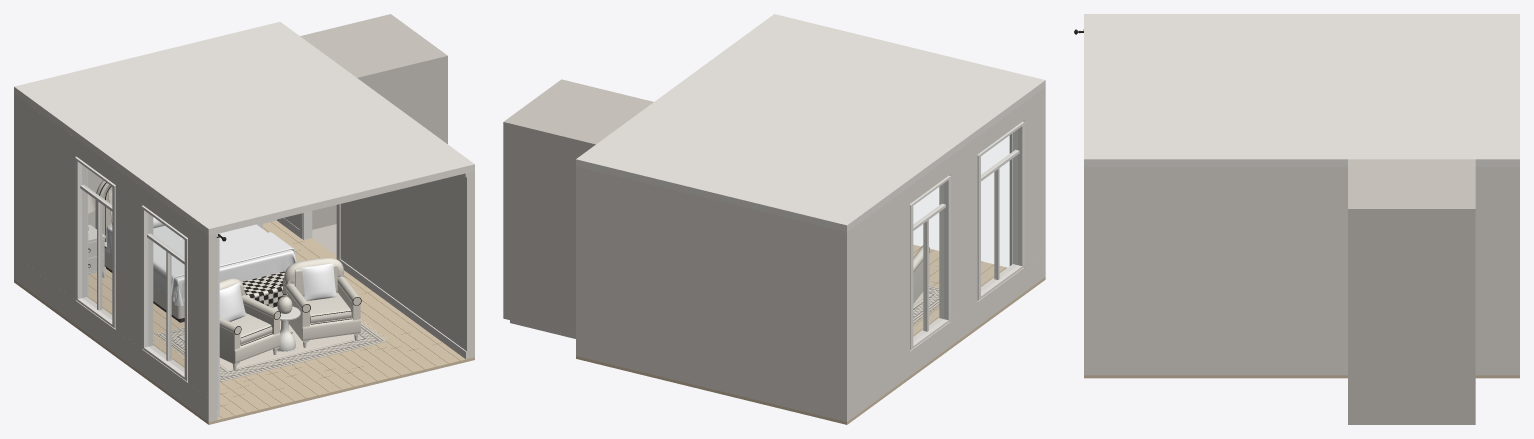
The model's file is bedroom.glb.
3 views of the same model, side by side, from view 1: azimuth 30°, elevation 25°; view 2: azimuth 150°, elevation 25°; view 3: azimuth 270°, elevation 25° (orthographic). The views are drawn at different scales.
Visible parts, largest first — view 1: Ceiling, Wall (×7), Oak floor, Bathroom (beyond) (×5), White trim (×3), Window glass (×2), Armchair R, Rug top, Armchair L, Duvet, Throw, Bed (+8 smaller); view 2: Wall (×6), Ceiling, Bathroom (beyond) (×3), White trim (×2), Window glass (×2), Oak floor, Armchair L; view 3: Ceiling, Wall (×3), Bathroom (beyond) (×2), Oak floor.
Part boxes in pixels (box(x1,y1,x2,y2)): Ceiling: box(14, 22, 474, 235); Wall (×7): box(14, 94, 474, 421); Oak floor: box(14, 220, 474, 424); Bathroom (beyond) (×5): box(300, 14, 447, 255); White trim (×3): box(75, 157, 466, 419); Window glass (×2): box(82, 166, 183, 371); Armchair R: box(283, 257, 361, 347); Rug top: box(157, 320, 385, 381); Armchair L: box(219, 278, 280, 370); Duvet: box(106, 224, 296, 306); Throw: box(153, 232, 296, 295); Bed: box(95, 180, 184, 322); Wall (×6): box(576, 87, 1045, 421); Ceiling: box(576, 14, 1045, 232); Bathroom (beyond) (×3): box(503, 79, 653, 336); White trim (×2): box(910, 121, 1024, 350); Window glass (×2): box(914, 131, 1017, 339); Oak floor: box(576, 244, 1045, 424); Armchair L: box(913, 245, 929, 304); Ceiling: box(1084, 14, 1519, 166); Wall (×3): box(1084, 167, 1519, 375); Bathroom (beyond) (×2): box(1348, 159, 1475, 424); Oak floor: box(1084, 375, 1519, 378).
Size of what is drawn, in the model's own units: 5.43 by 2.84 by 5.24.
14 materials, 2 textured.
